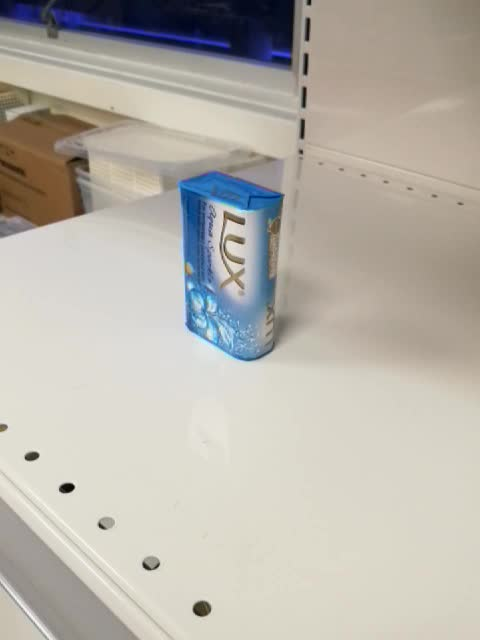soap: (177, 170, 286, 362)
